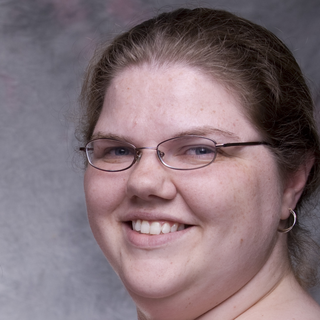eye: (93, 140, 136, 166), (176, 138, 214, 165)
